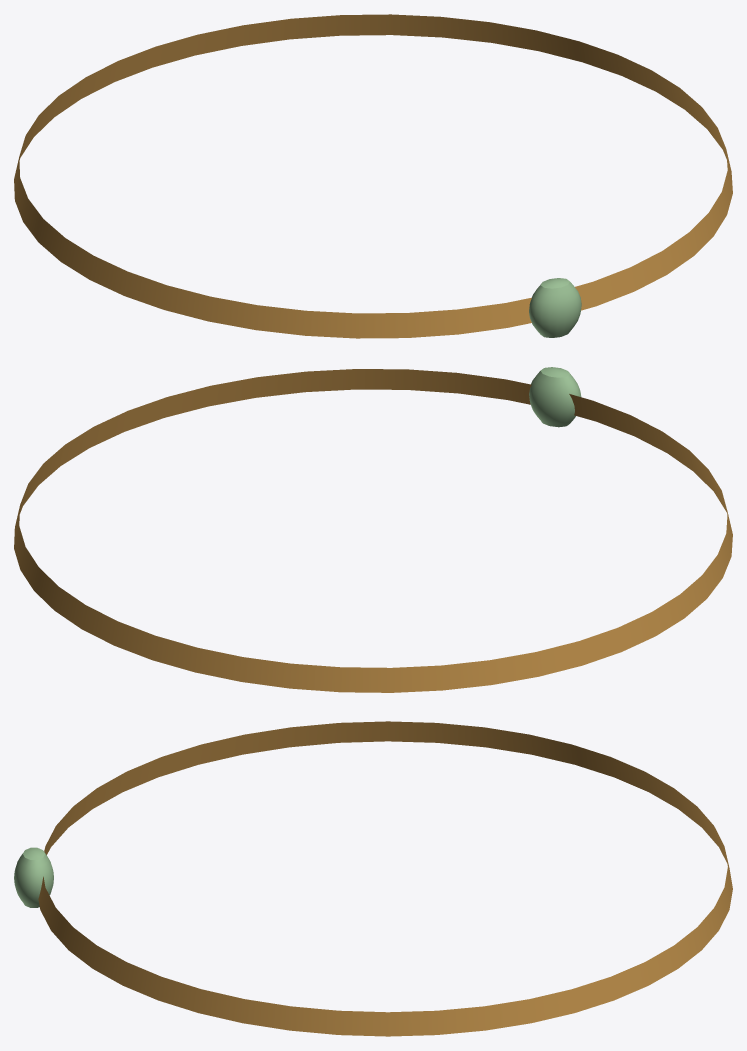
The model's file is circlet.glb.
The picture shows the model from 3 angles, top to bottom: view 1: azimuth 30°, elevation 25°; view 2: azimuth 150°, elevation 25°; view 3: azimuth 270°, elevation 25°; orthographic projection. The views are drawn at different scales.
Visible parts, largest first — view 1: circlet; view 2: circlet; view 3: circlet.
Part boxes in pixels (<box>): circlet: <box>14,14,732,338</box>; circlet: <box>14,367,732,692</box>; circlet: <box>14,721,732,1036</box>.
Bounding box in the file's own units: 0.6857 × 0.0575 × 0.7059.
